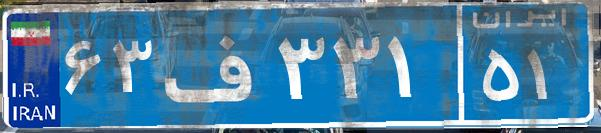1: (385, 28, 445, 110), (525, 38, 570, 115)
3: (273, 28, 330, 110), (330, 28, 385, 110), (110, 28, 158, 105)
5: (475, 38, 525, 113)
6: (57, 26, 110, 107)
ف: (158, 15, 273, 115)
